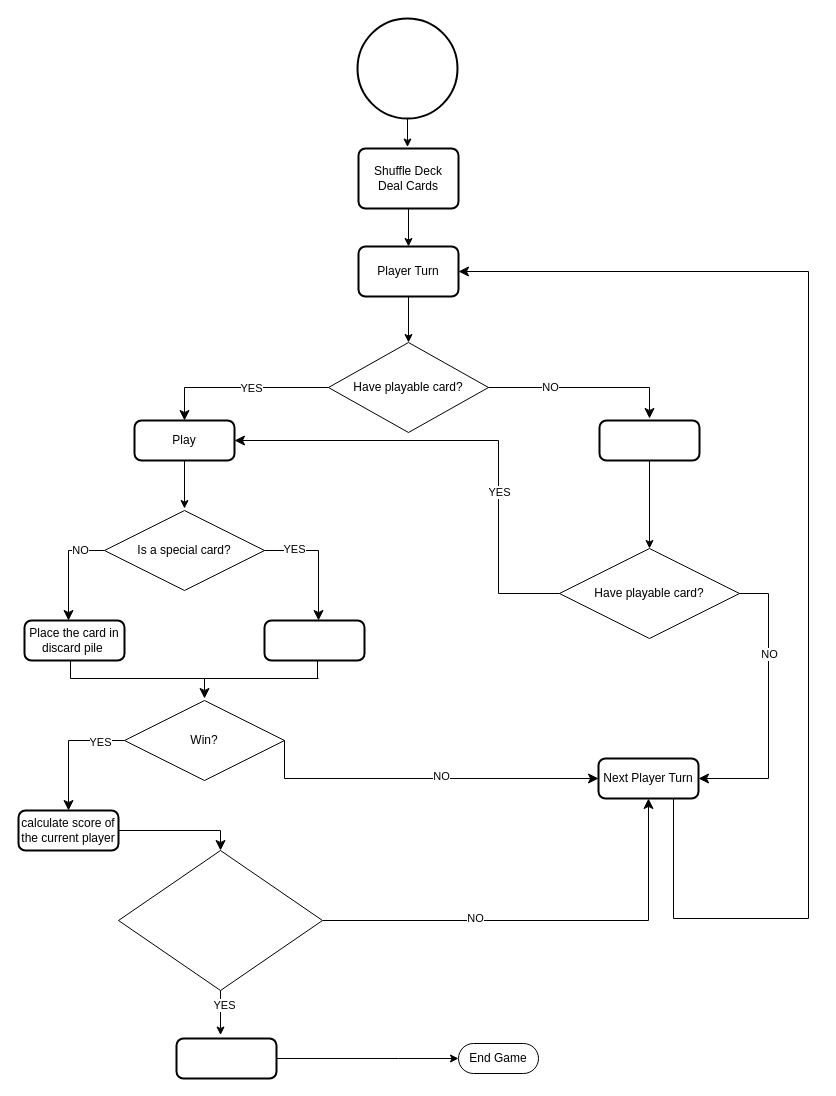
The diagram is 836 pixels wide and 1096 high, and some of its shapes have lost their labels. The shapes that lost their labels are listed below. From the top down, each one's centre as x and y in pixels, then its label:
At point (407, 68): "Start Game".
At point (649, 440): "Draw".
At point (314, 640): "Handle special card effects".
At point (220, 920): "n-1 players hand is empty?".
At point (226, 1058): "Calculate last player's score".
